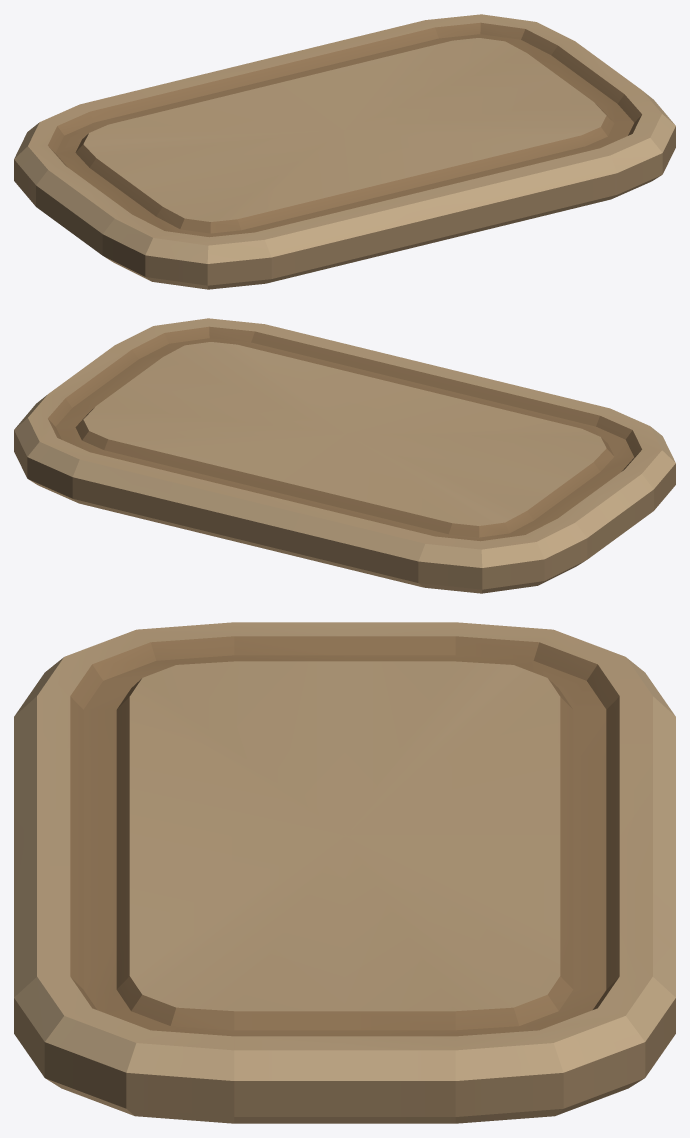
The model's file is planche_S.glb.
The picture shows the model from 3 angles, top to bottom: view 1: azimuth 30°, elevation 25°; view 2: azimuth 150°, elevation 25°; view 3: azimuth 270°, elevation 25°; orthographic projection. The views are drawn at different scales.
Parts seen in each view (by area): view 1: planche_S; view 2: planche_S; view 3: planche_S.
Part boxes in pixels (x1,y1,x2,y2): planche_S: (14, 14, 675, 289); planche_S: (14, 318, 675, 593); planche_S: (14, 622, 675, 1123).
Size of the model in its own units: 3.2 by 0.2399 by 2.
